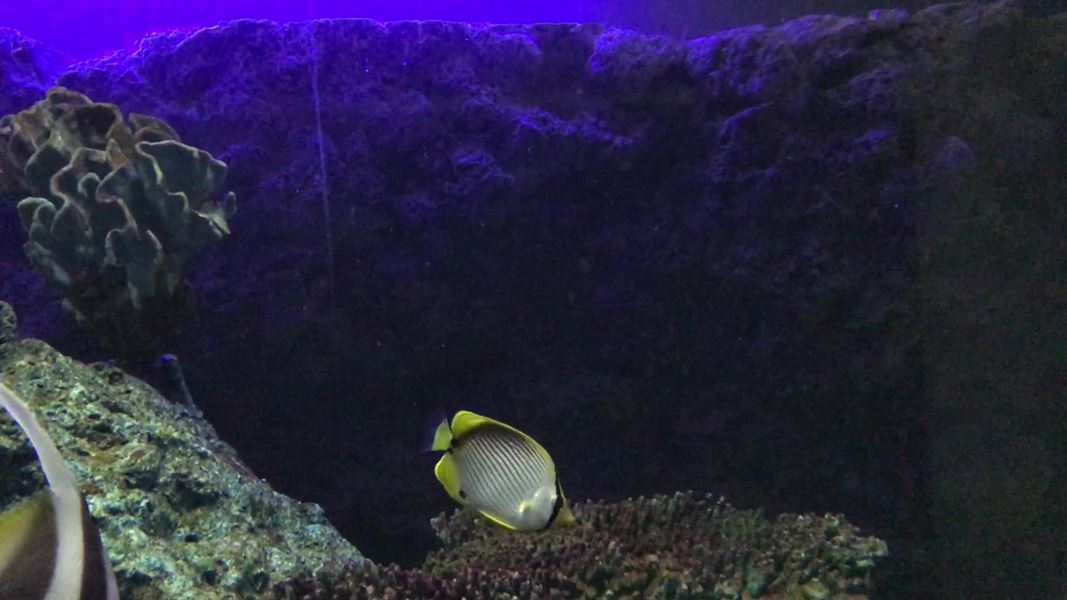Black-backed butterflyfish: (407, 398, 585, 541)
